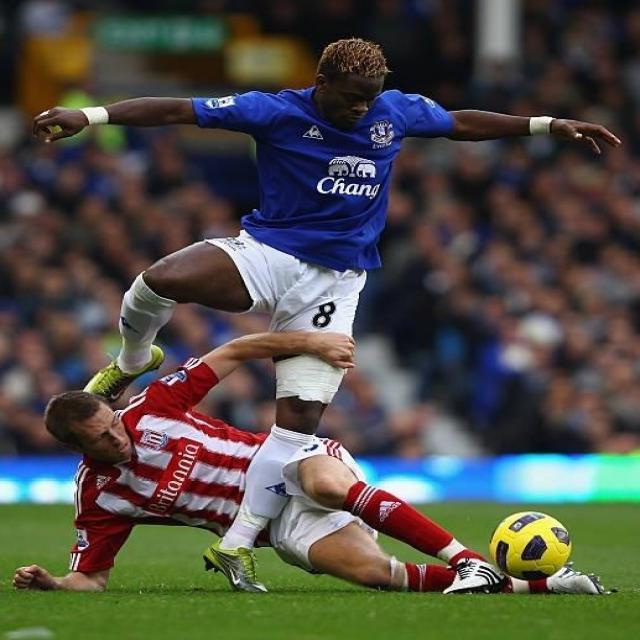ball: (488, 505, 574, 577)
player: (35, 36, 627, 595), (5, 331, 607, 615)
